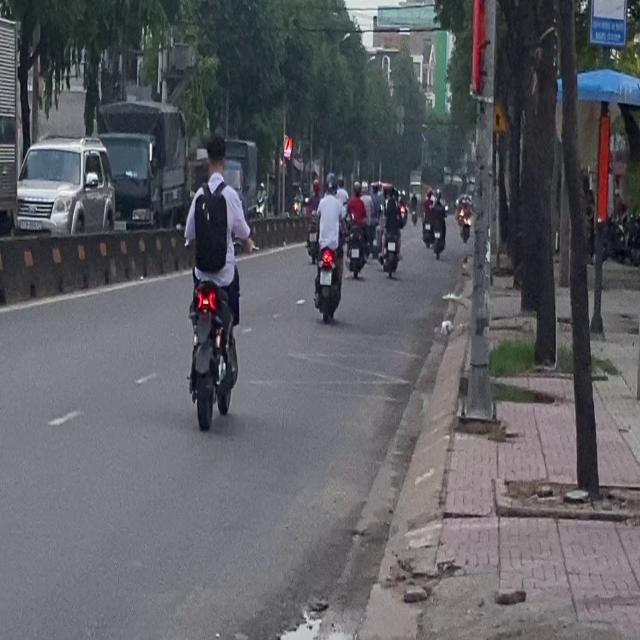licenseplate: (181, 128, 250, 428)
motorcyclist: (204, 130, 226, 175)
